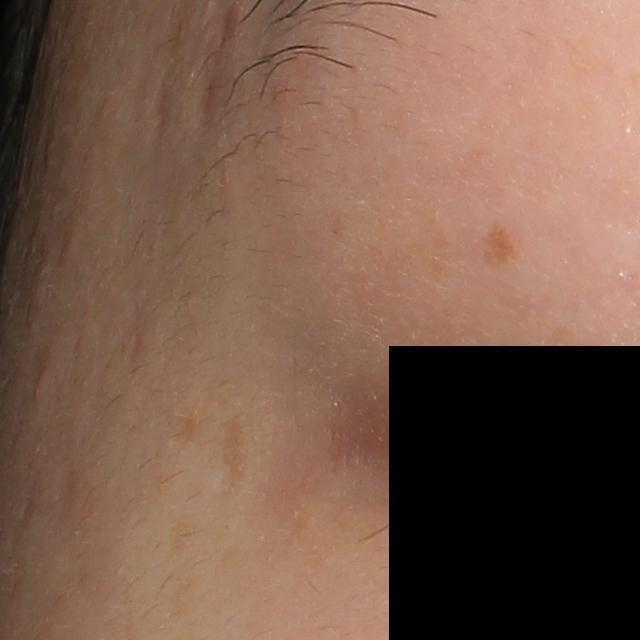melasma: (212, 415, 250, 507), (474, 208, 526, 274)
